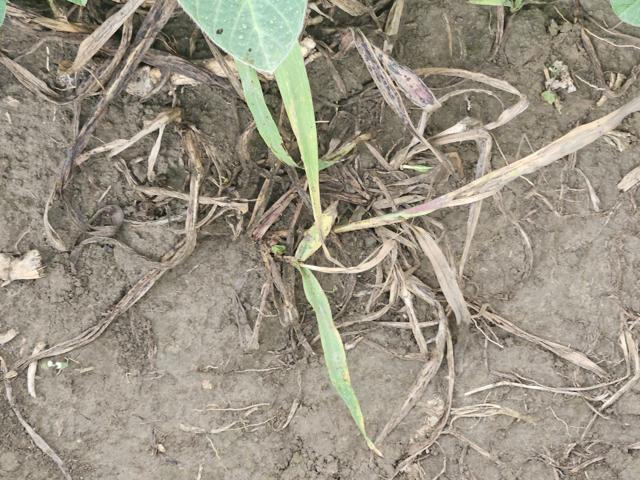bad weed: (226, 58, 411, 454)
